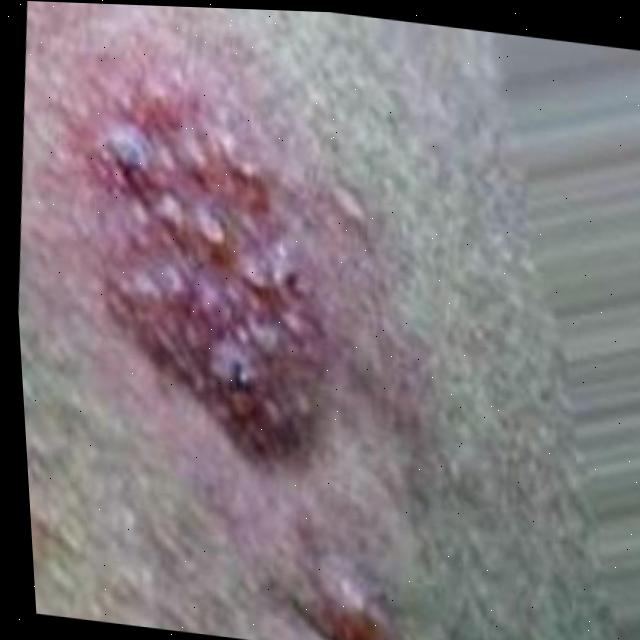Shingles: (44, 44, 353, 473)
